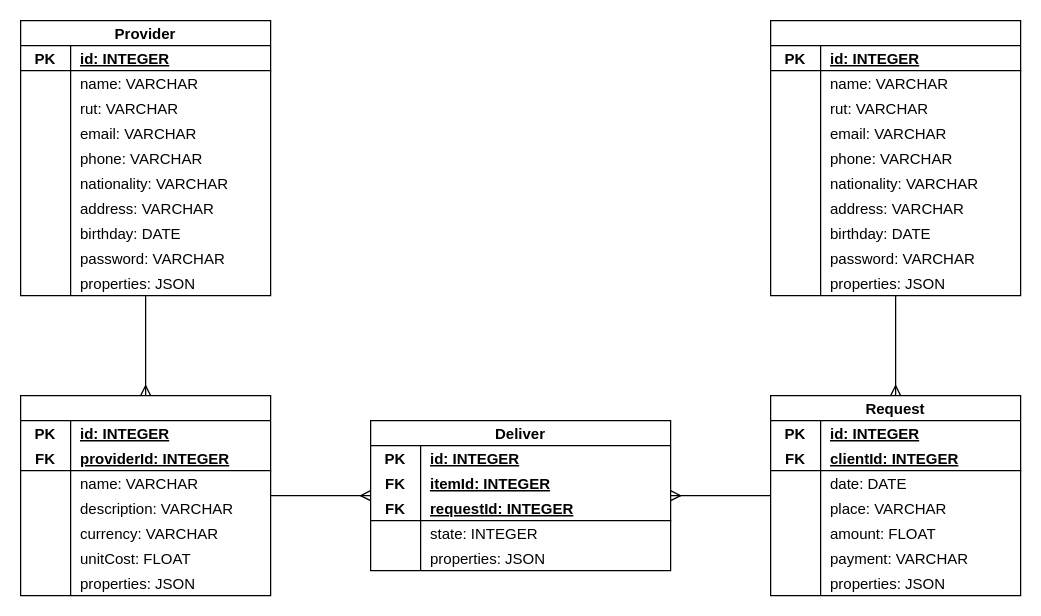
Image size: 1041x616. Some labels were removed from this diagram. Here are the shapes that lost their labels. From the top down, the box of each, then its label:
(769, 19, 1021, 296): Client
(19, 394, 271, 596): Item
